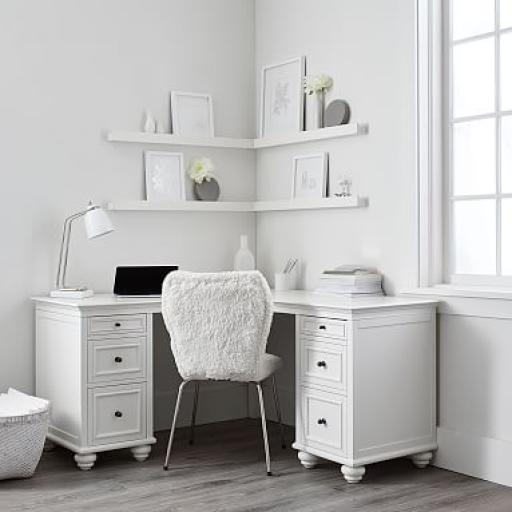chair: (160, 269, 286, 476)
desk: (30, 287, 441, 484)
wall: (254, 0, 512, 489), (0, 0, 254, 396)
